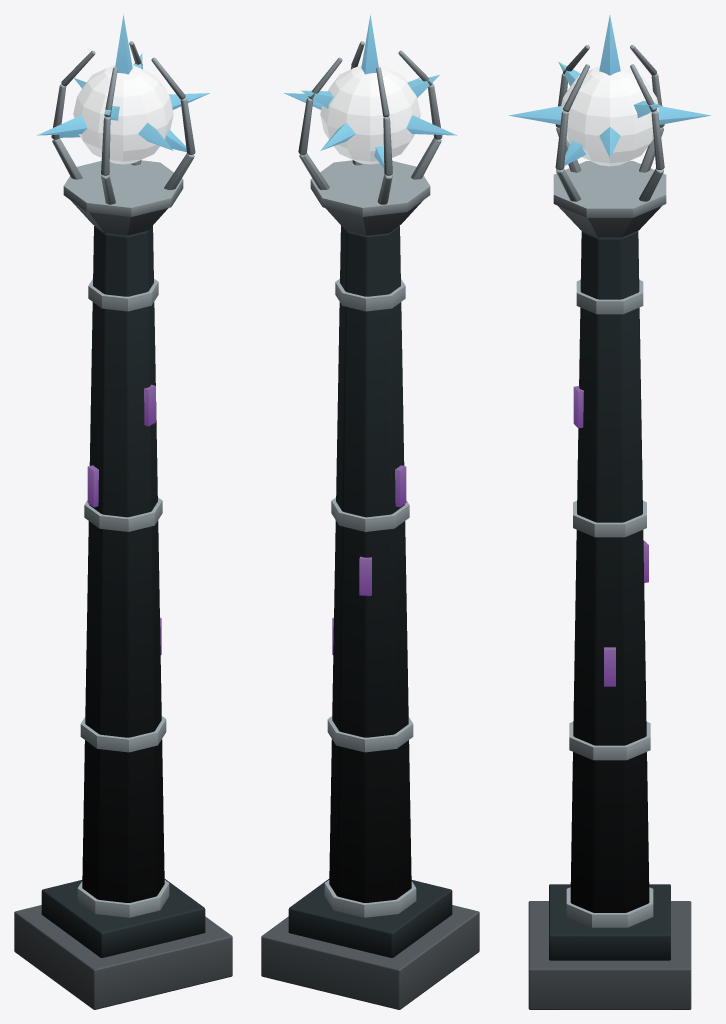
The model's file is star_pillar.glb.
The picture shows the model from 3 angles, left to right: view 1: azimuth 30°, elevation 25°; view 2: azimuth 150°, elevation 25°; view 3: azimuth 270°, elevation 25°; orthographic projection.
Parts seen in each view (by area): view 1: star_pillar; view 2: star_pillar; view 3: star_pillar.
Part boxes in pixels (bbox=[...]): star_pillar: bbox=[14, 14, 232, 1009]; star_pillar: bbox=[261, 14, 479, 1009]; star_pillar: bbox=[508, 15, 711, 1009].
Bounding box in the file's own units: 2 × 10.43 × 2.
5 materials, 5 textured.
